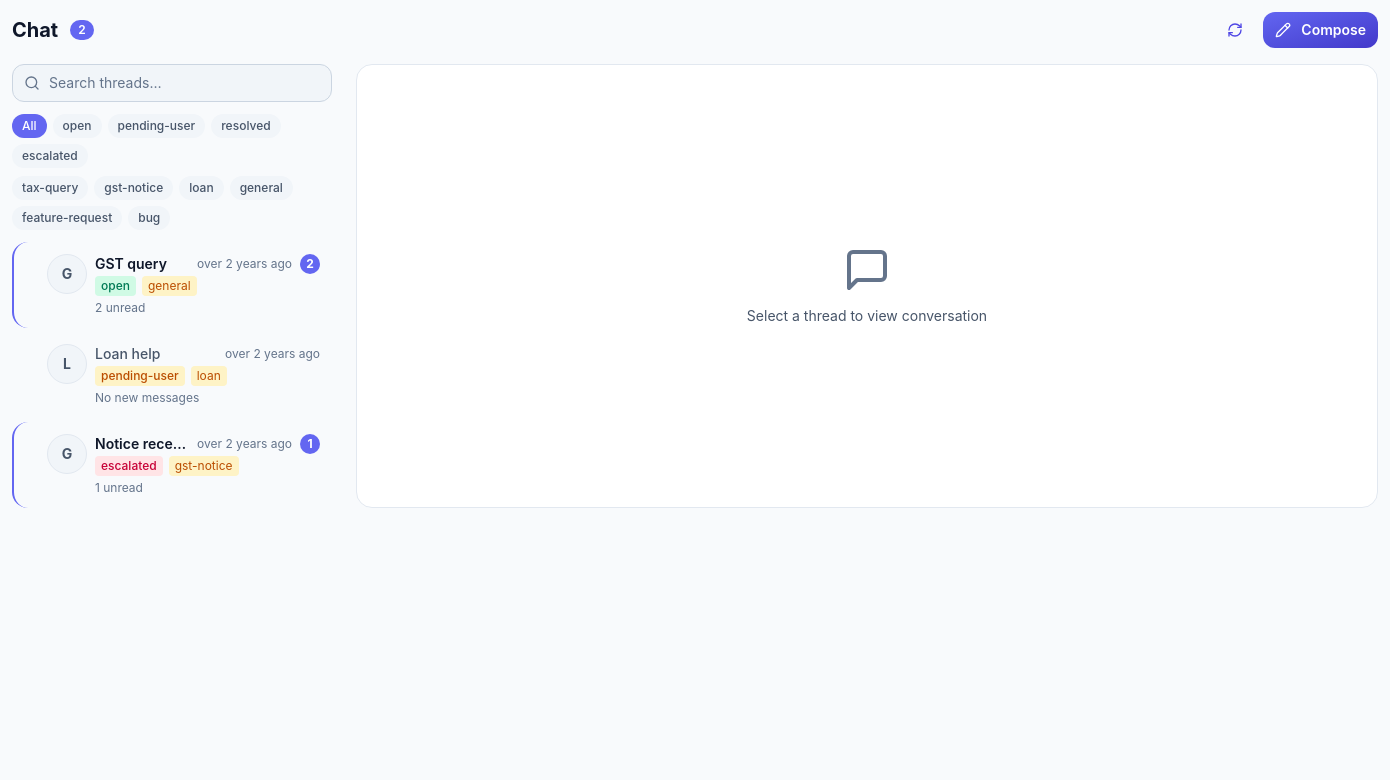
Test: ChatInboxPage › clicking a selected category chip deselects it
Expected: the text "GST query" is shown, x1=95 y1=254 x2=167 y2=274
Click the button "loan" at (201, 188), box x1=179 y1=176 x2=224 y2=200
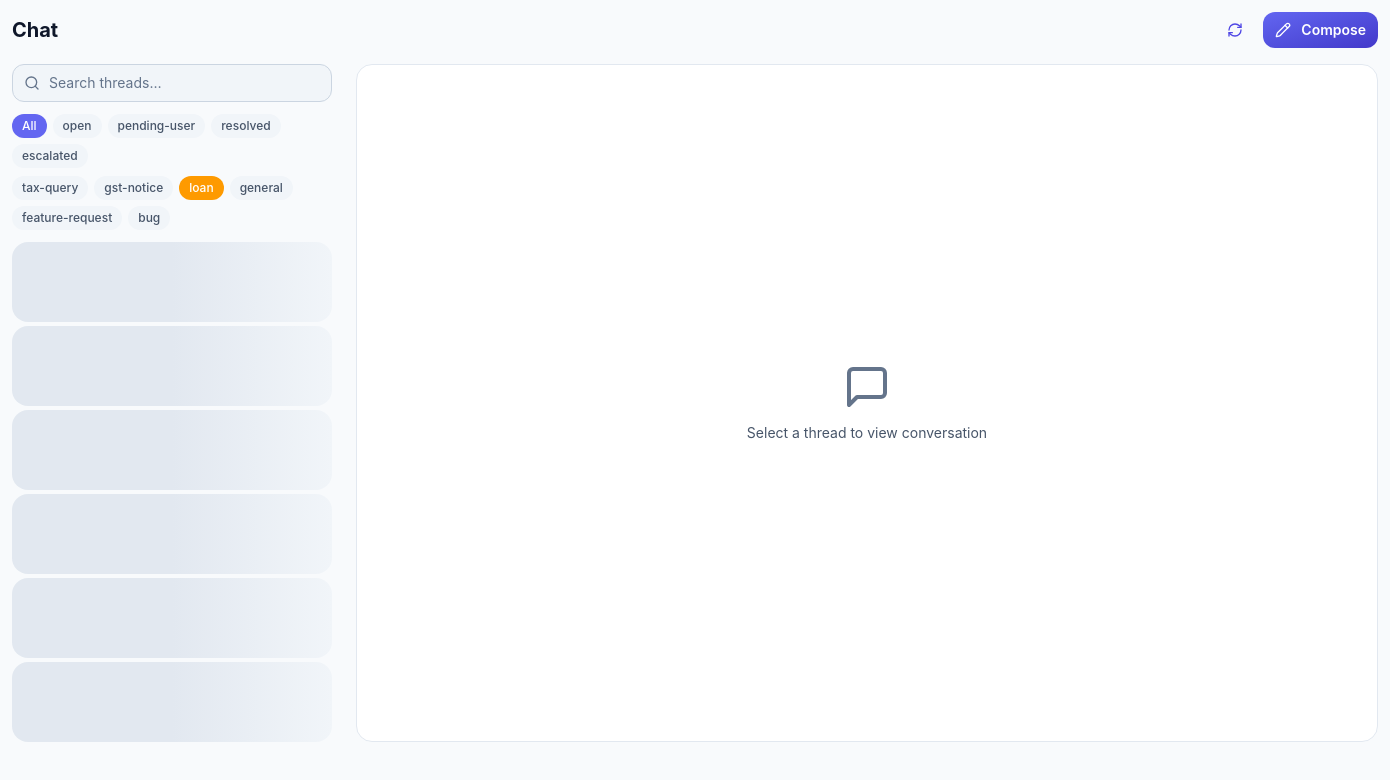
Click the button "loan" at (201, 188), box x1=179 y1=176 x2=224 y2=200
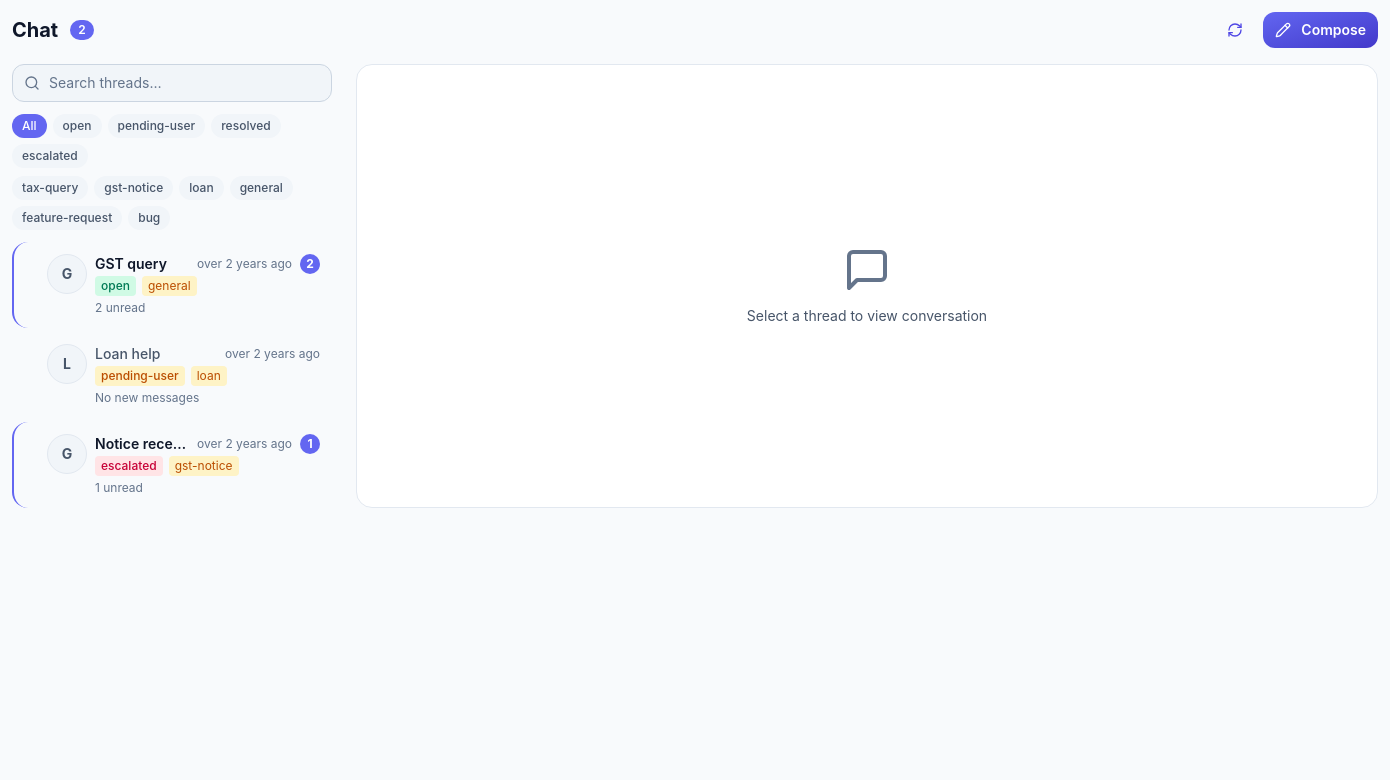
Result: the text "GST query" is shown at x1=95 y1=254 x2=167 y2=274
Result: the text "Loan help" is shown at x1=95 y1=344 x2=160 y2=364
